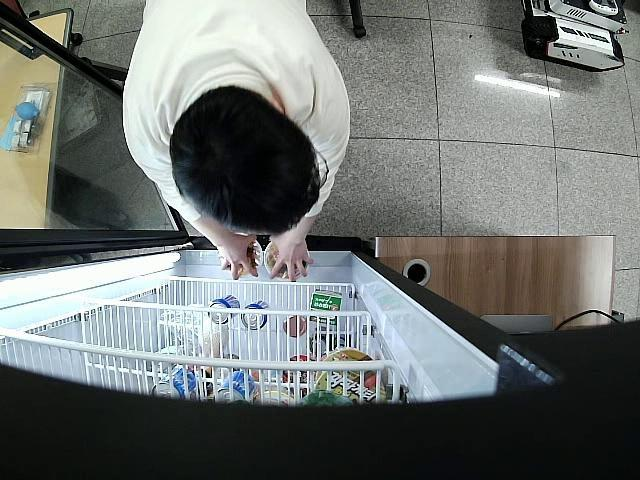09_yukGaeJang: (221, 234, 264, 275), (266, 244, 311, 280)
